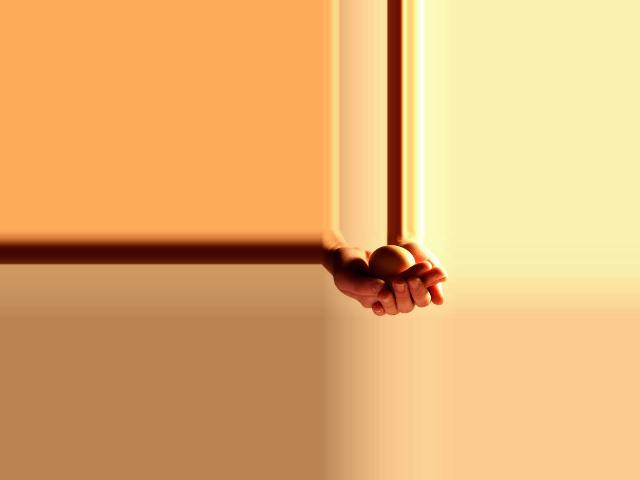egg: (367, 245, 414, 277)
